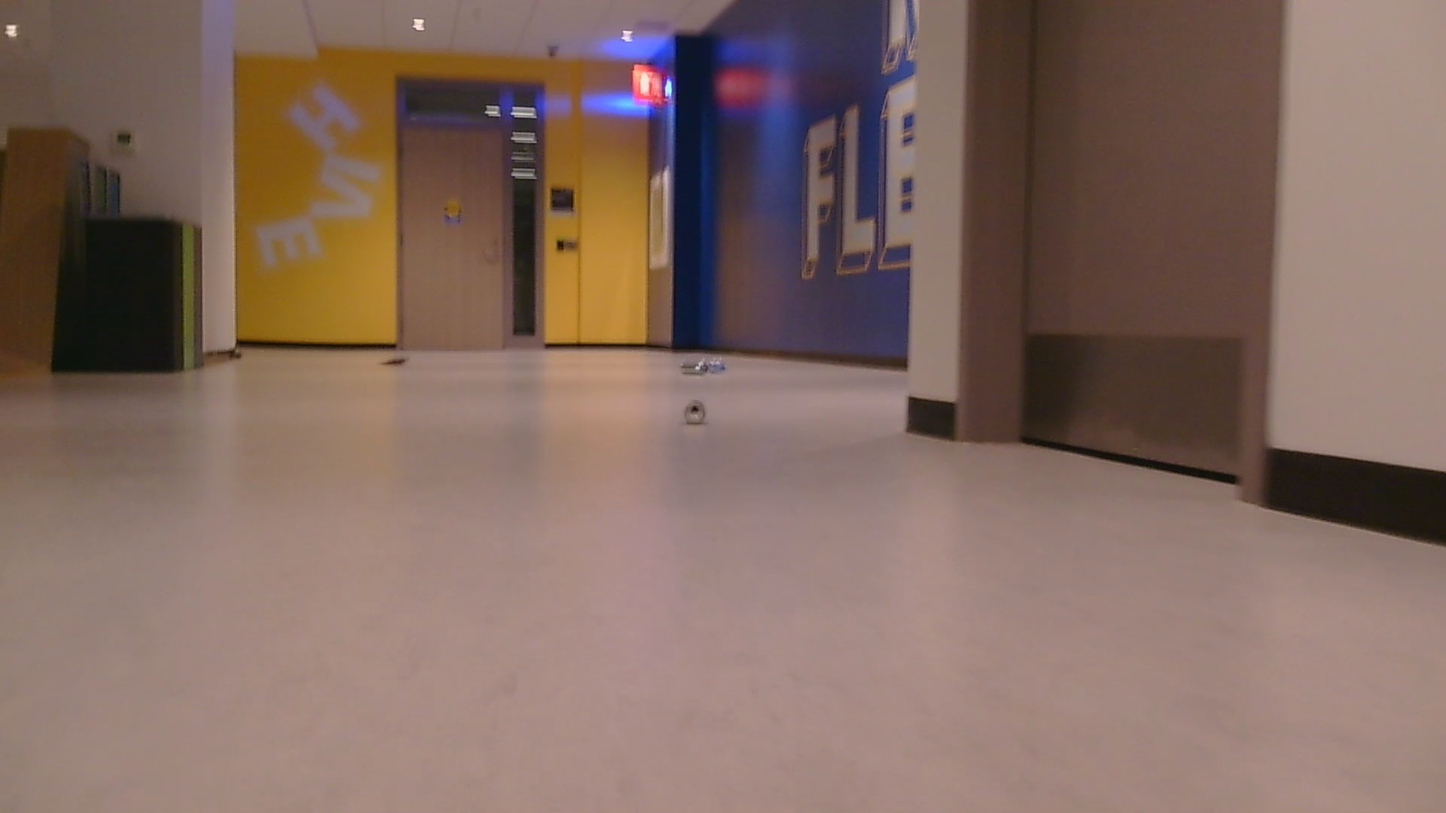can: (694, 419, 695, 419)
carton: (676, 352, 757, 381), (682, 391, 715, 427), (371, 354, 421, 372)
